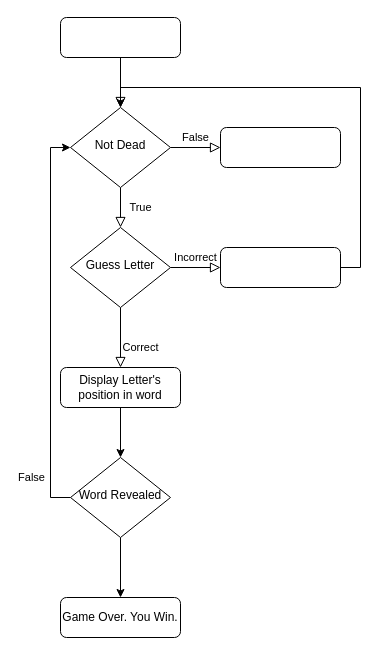
Image size: 386x655. Some labels were removed from this diagram. Each missing label, with the centre of its shape:
Game Over. You Lose: the point at 280,147
Lose 1 life: the point at 280,267
Start: the point at 120,37
